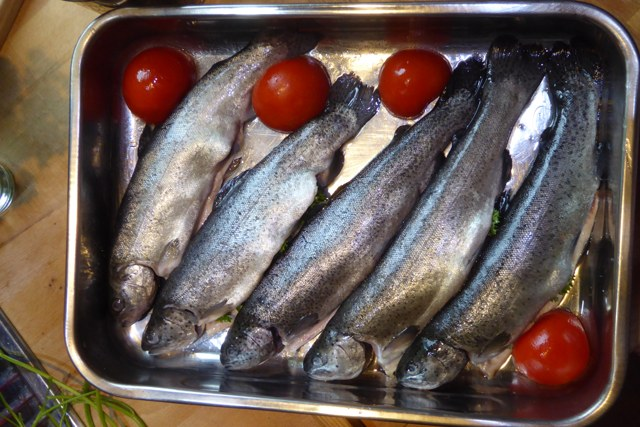tomato: (252, 55, 330, 133), (512, 309, 589, 386), (121, 46, 196, 125), (378, 48, 453, 117)
